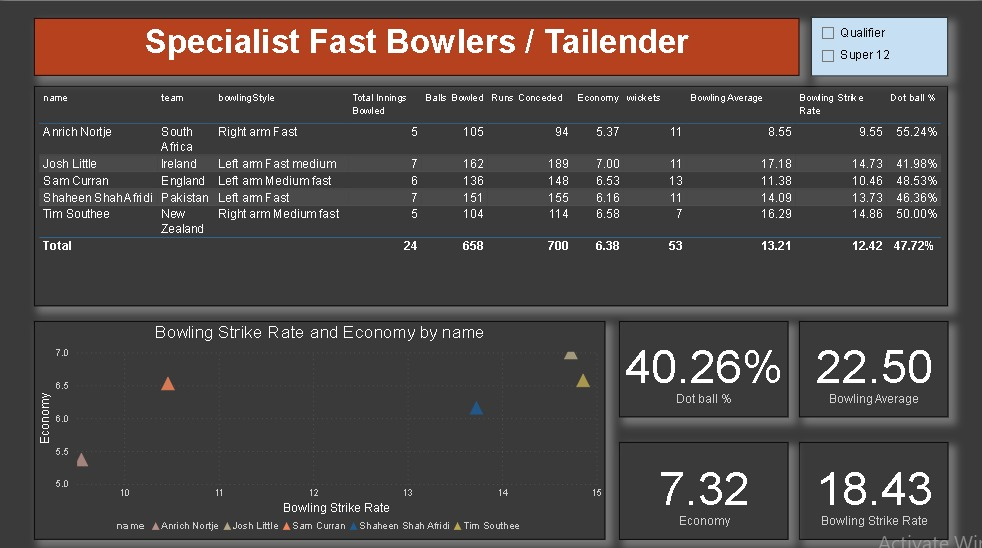

This screenshot's page, from the dashboard's own definition file:
{"tool":"powerbi","page":{"name":"Specialist Fast Bowlers / Tail Ender","canvas":[1280,720],"ordinal":4},"visuals":[{"type":"tableEx","fields":{"Values":["dim_players.name","dim_players.team","dim_players.bowlingStyle","Key_Measures.Total Innings Bowled","Key_Measures.Balls Bowled","Key_Measures.Runs Conceded","Key_Measures.Economy","Key_Measures.wickets","Key_Measures.Bowling Average","Key_Measures.Bowling Strike Rate","Key_Measures.Dot ball %"]},"box":[45.6,110.5,1187.1,285.8],"z":0},{"type":"card","fields":{"Values":["Key_Measures.Dot ball %"]},"box":[805.3,416.2,219.5,125.4],"z":1000},{"type":"card","fields":{"Values":["Key_Measures.Bowling Average"]},"box":[1039.1,416.2,193.9,125.4],"z":2000},{"type":"card","fields":{"Values":["Key_Measures.Bowling Strike Rate"]},"box":[1039.1,573,193.9,126.9],"z":3000},{"type":"card","fields":{"Values":["Key_Measures.Economy"]},"box":[805.3,573,219.5,126.9],"z":4000},{"type":"scatterChart","title":"Bowling Strike Rate and Economy by name ","fields":{"Category":["dim_players.name"],"X":["Key_Measures.Bowling Strike Rate"],"Series":["dim_players.name"],"Y":["Key_Measures.Economy"]},"box":[45.6,415.6,741.7,284.1],"z":5000},{"type":"textbox","box":[46.1,21.6,993.6,74.9],"z":6000},{"type":"slicer","fields":{"Values":["dim_match_summary.stage"]},"box":[1054.8,21.4,178.2,77],"z":7000}]}

Visuals, with their boxes in screenshot pixels (x1, y1, x2, y2), scaled from the page's 1280x720 canvas onto the 982x548 screenshot:
tableEx - dim_players.name x dim_players.team: 35, 84, 946, 302
card - Key_Measures.Dot ball %: 618, 317, 786, 412
card - Key_Measures.Bowling Average: 797, 317, 946, 412
card - Key_Measures.Bowling Strike Rate: 797, 436, 946, 533
card - Key_Measures.Economy: 618, 436, 786, 533
"Bowling Strike Rate and Economy by name " scatterChart: 35, 316, 604, 533
textbox: 35, 16, 798, 73
slicer - dim_match_summary.stage: 809, 16, 946, 75
